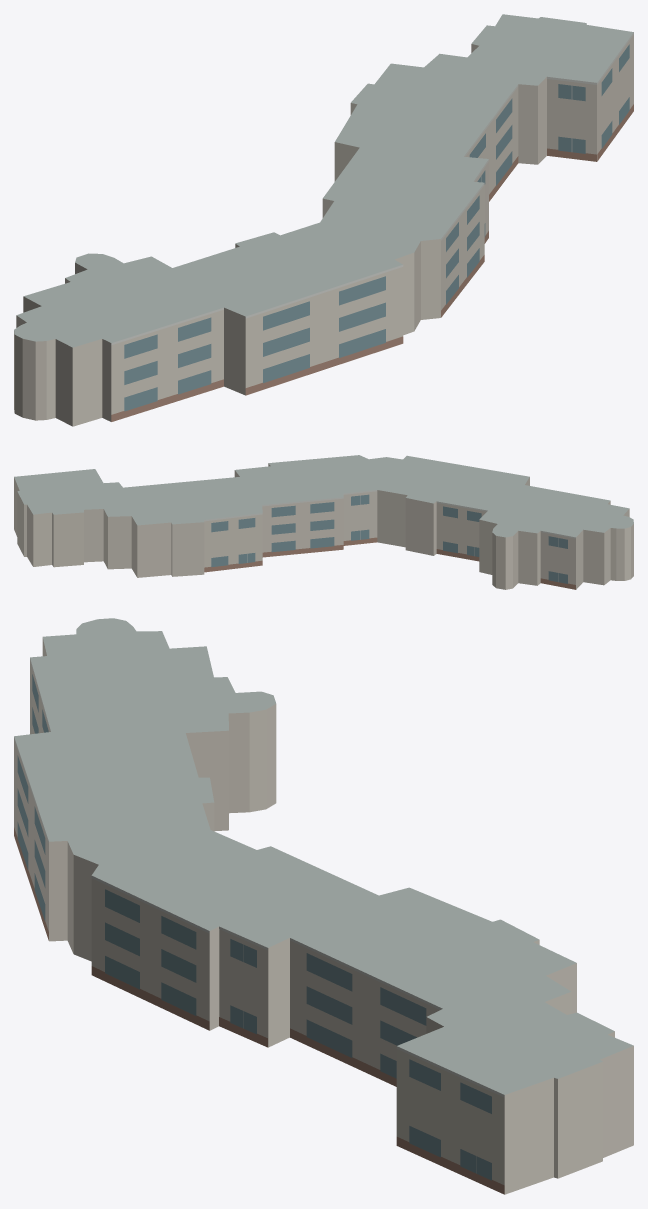
File: survey-upis-32714020.glb
The picture shows the model from 3 angles, top to bottom: view 1: azimuth 30°, elevation 25°; view 2: azimuth 150°, elevation 25°; view 3: azimuth 270°, elevation 25°; orthographic projection. The views are drawn at different scales.
Parts seen in each view (by area): view 1: survey-upis-32714020.tmp; view 2: survey-upis-32714020.tmp; view 3: survey-upis-32714020.tmp.
Part boxes in pixels (<box>): survey-upis-32714020.tmp: <box>14,14,633,426</box>; survey-upis-32714020.tmp: <box>14,455,633,589</box>; survey-upis-32714020.tmp: <box>14,618,633,1194</box>.
Bounding box in the file's own units: 93.82 × 9.15 × 51.55.
